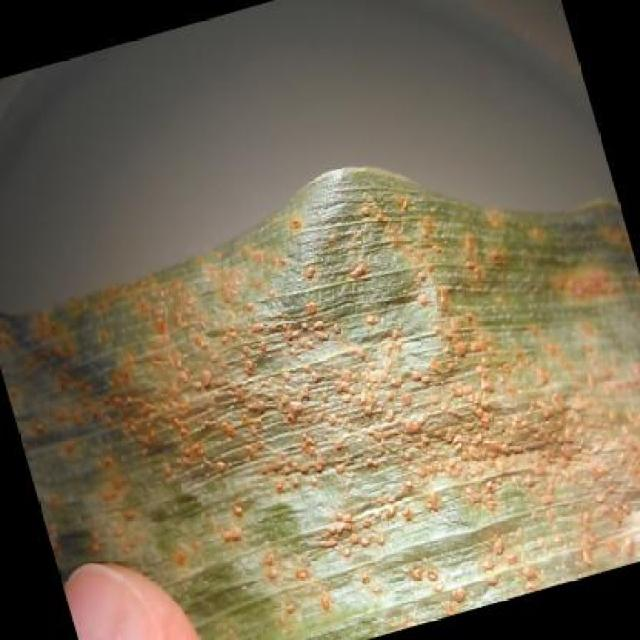Corn_Rust: (62, 162, 623, 558)
